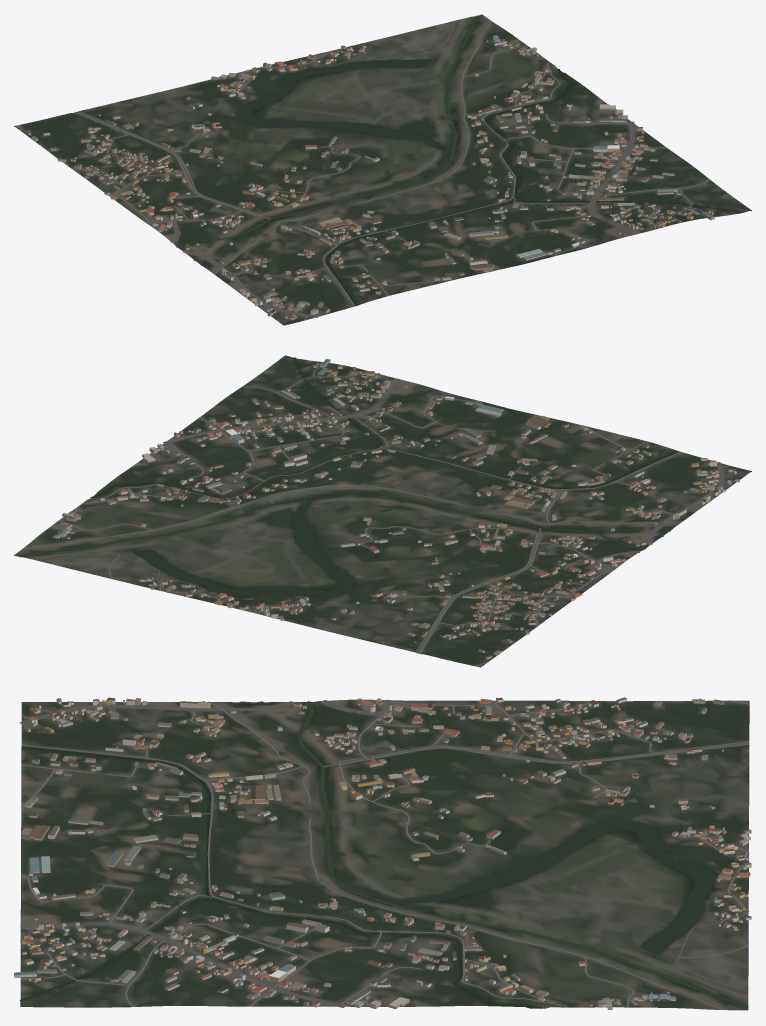
The picture shows the model from 3 angles, top to bottom: view 1: azimuth 30°, elevation 25°; view 2: azimuth 150°, elevation 25°; view 3: azimuth 270°, elevation 25°; orthographic projection. The views are drawn at different scales.
Parts seen in each view (by area): view 1: ground, buildings, water, roads; view 2: ground, buildings, water, roads; view 3: ground, buildings, water, roads.
Part boxes in pixels (x1,y1,x2,y2): ground: (14, 14, 751, 325); buildings: (27, 35, 714, 320); water: (76, 15, 742, 305); roads: (18, 20, 712, 320); ground: (14, 355, 751, 667); buildings: (53, 359, 739, 659); water: (18, 357, 679, 653); roads: (22, 362, 731, 666); ground: (20, 699, 749, 1010); buildings: (14, 697, 751, 1009); water: (19, 701, 749, 1008); roads: (19, 699, 749, 1010).
Bounding box in the file's own units: 1415 × 30.74 × 1421.
